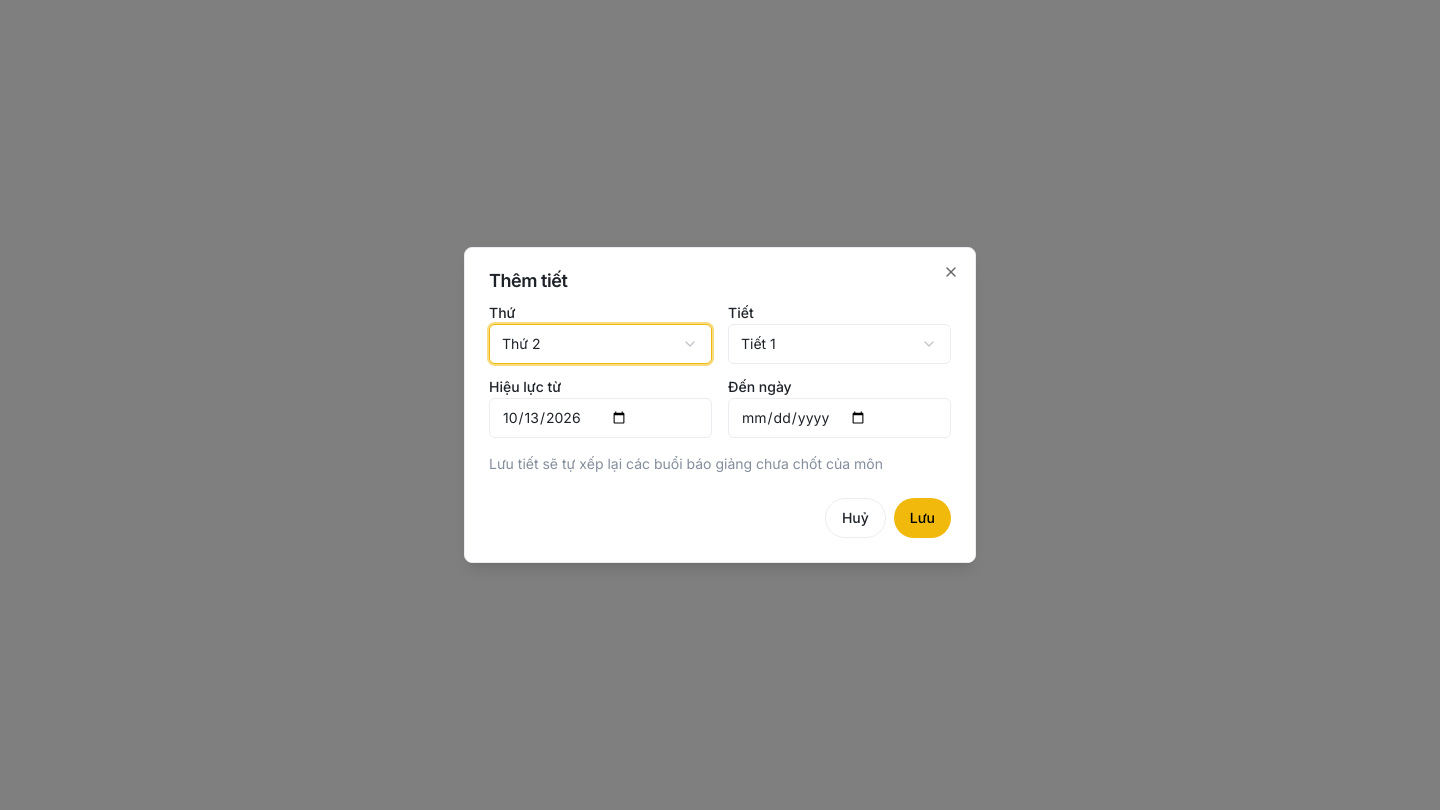
Test case: lỗi từ backend › 400 "Ngày kết thúc hiệu lực không được trước ngày bắt đầu hiệu lực" hiện nguyên văn, hộp thoại KHÔNG đóng và nút Lưu bấm lại được
Type "2026-01-05" into the date field labelled "Hiệu lực từ" at (600, 418), box [489,398,712,438]
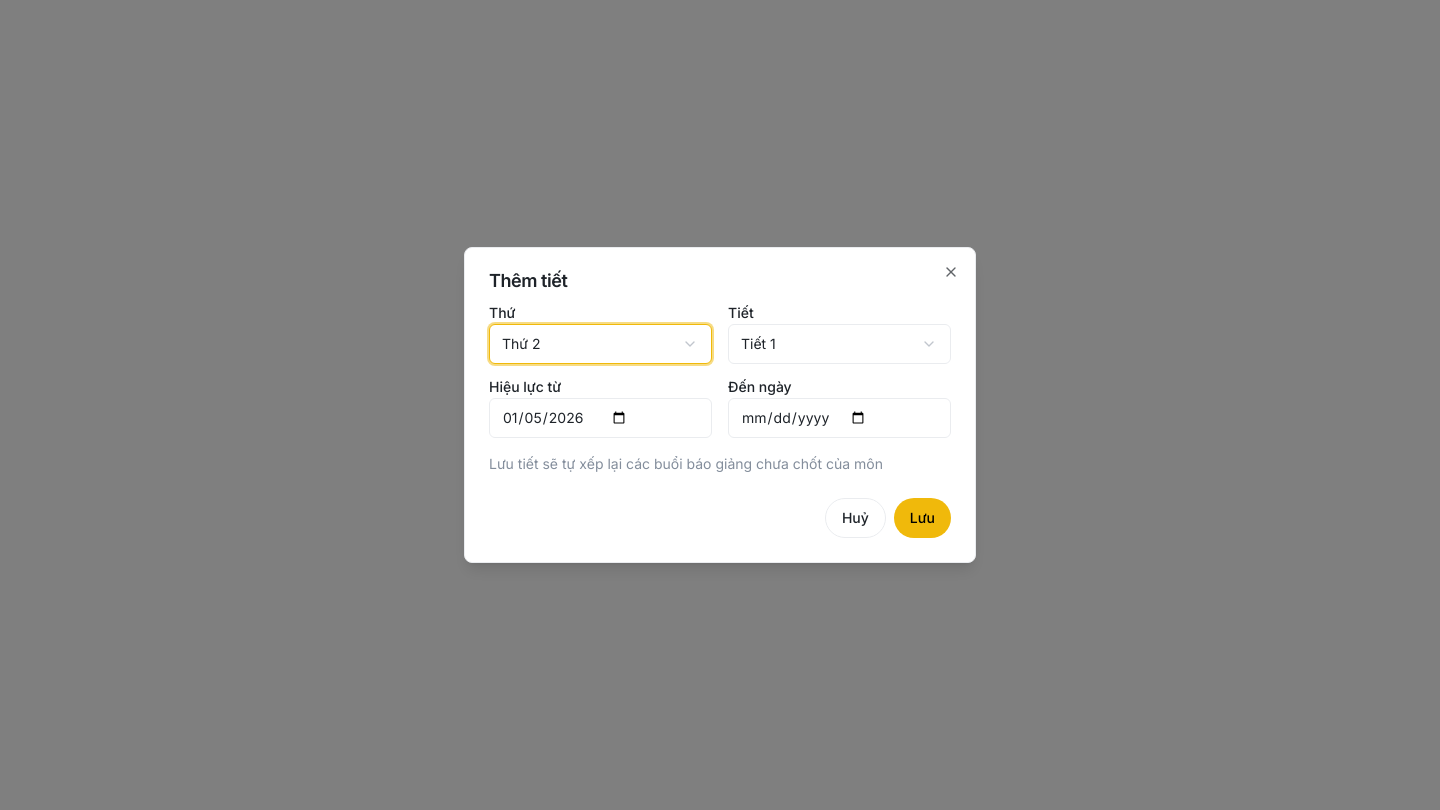
Click the button "Lưu" at (922, 518), box [894,498,951,538]
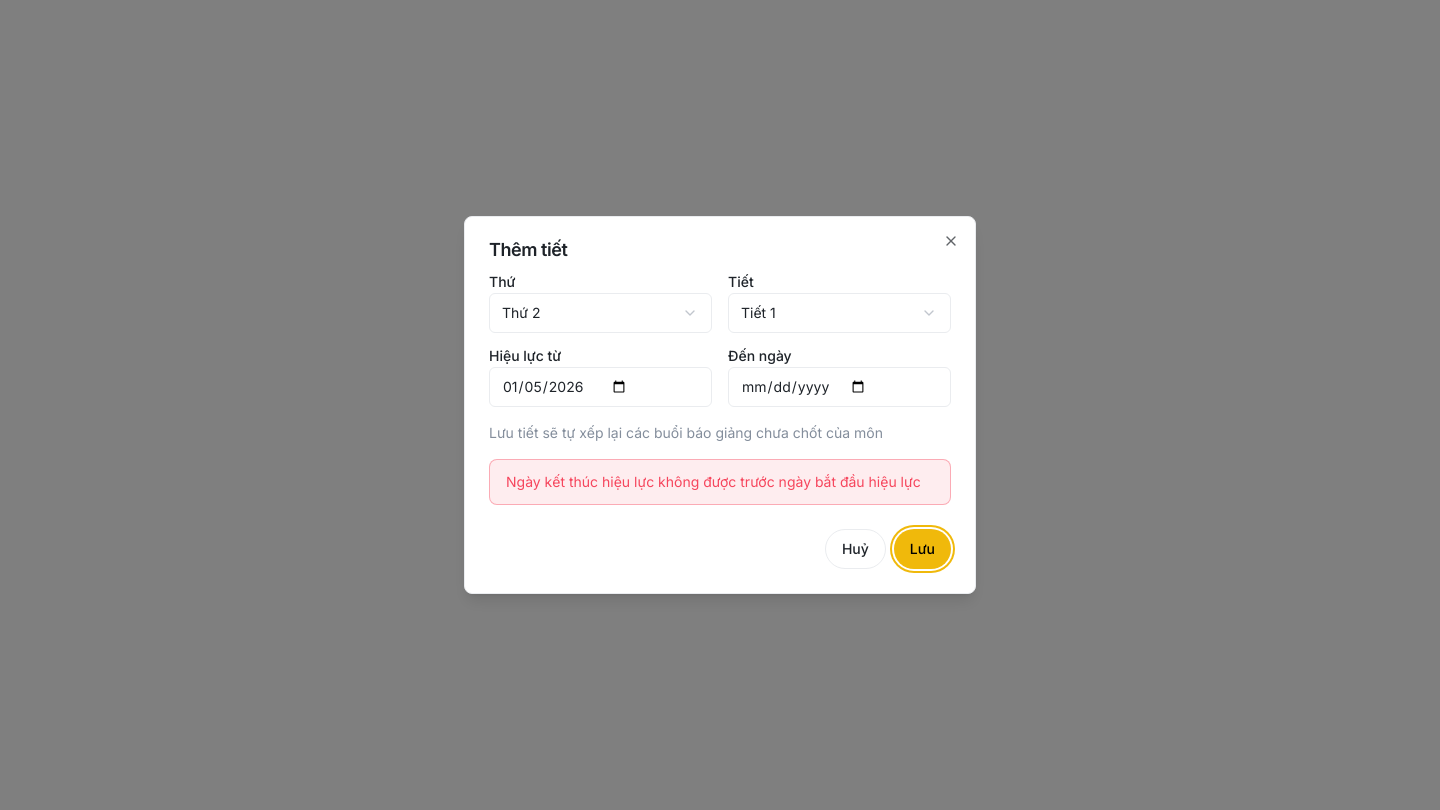
Expected: the button "Lưu" is enabled, [894,529,951,569]
Expected: the message reads "Ngày kết thúc hiệu lực không được trước ngày bắt đầu hiệu lực", [506,473,921,490]
